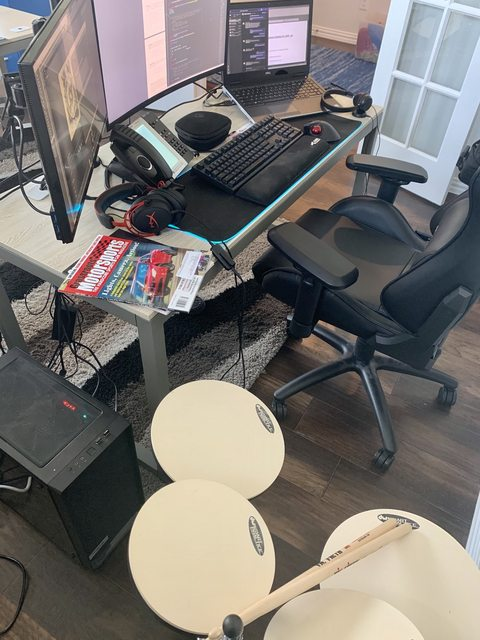Chair (Generic): (259, 127, 480, 483)
Desk (Generic): (1, 85, 385, 336)
Desktop (Generic): (1, 352, 128, 589)
Earphones: (319, 81, 375, 124)
Headphones: (112, 185, 199, 233)
Keyboard (Generic): (206, 113, 333, 211)
Laptop (Generic): (228, 1, 334, 117)
Monitor (Landscape): (94, 1, 239, 111), (48, 1, 109, 243)
Monitor (Laptop): (226, 4, 315, 75)
Mouse (Ergonomic): (304, 117, 342, 141)
Mousepad (Generic): (151, 112, 365, 240)
Musical Instrument (Generic): (148, 390, 459, 639)
Telephone: (113, 111, 191, 187)
